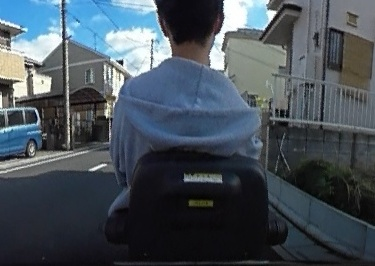person: (115, 0, 282, 250)
